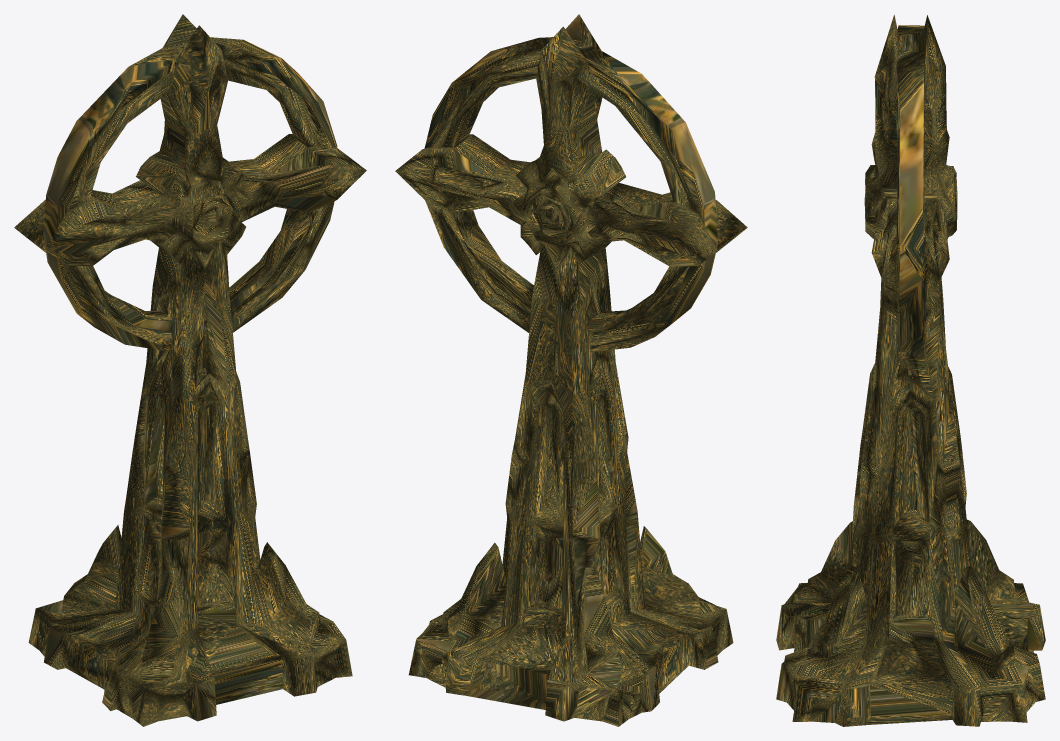
Rendered from gilded-reach-choir-wheel-far.glb.
3 renders of one model, left to right at view 1: azimuth 30°, elevation 25°; view 2: azimuth 150°, elevation 25°; view 3: azimuth 270°, elevation 25°, orthographic. The views are drawn at different scales.
Visible parts, largest first — view 1: Mesh_0; view 2: Mesh_0; view 3: Mesh_0.
Boxes of the visible parts, left/top/right/bottom form: Mesh_0: left=14, top=14, right=366, bottom=726; Mesh_0: left=395, top=14, right=747, bottom=726; Mesh_0: left=776, top=14, right=1045, bottom=726.
Bounding box in the file's own units: 1 × 1.9 × 0.707.
1 material, 1 textured.
